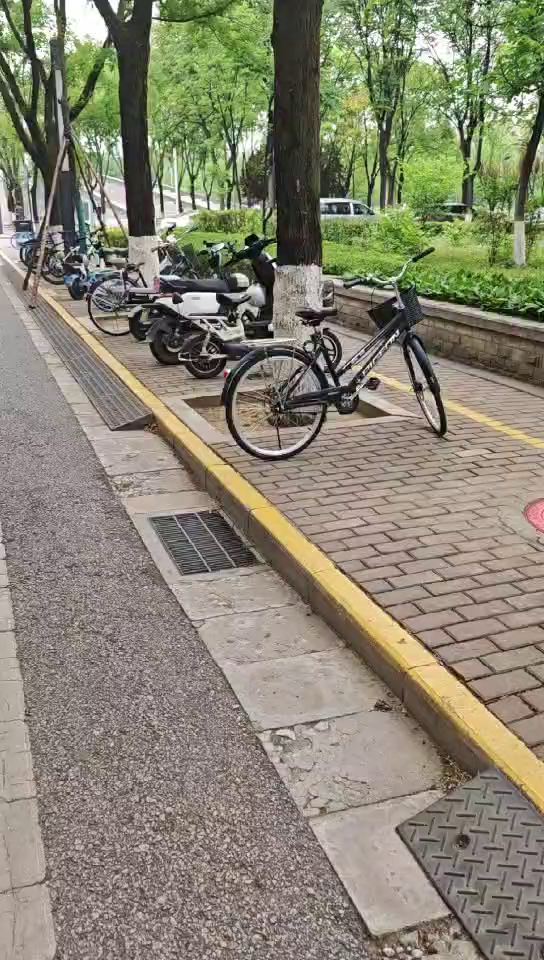others: (216, 261, 455, 458), (144, 253, 291, 365), (97, 234, 210, 348)
